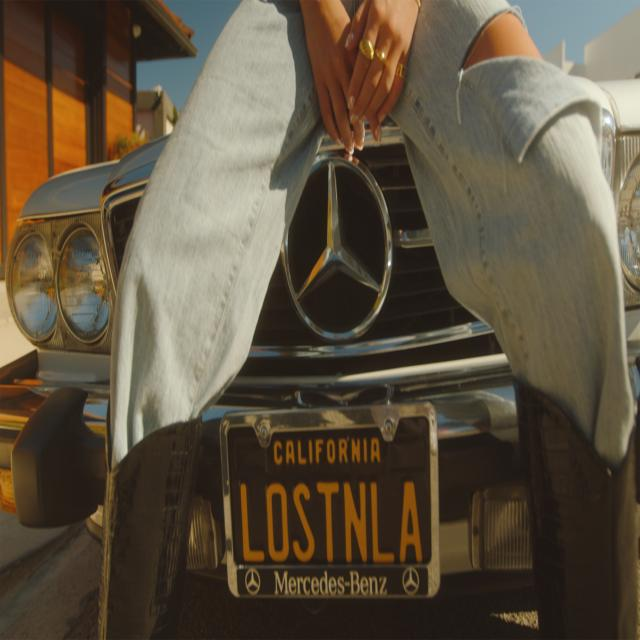Plat: (218, 403, 442, 602)
